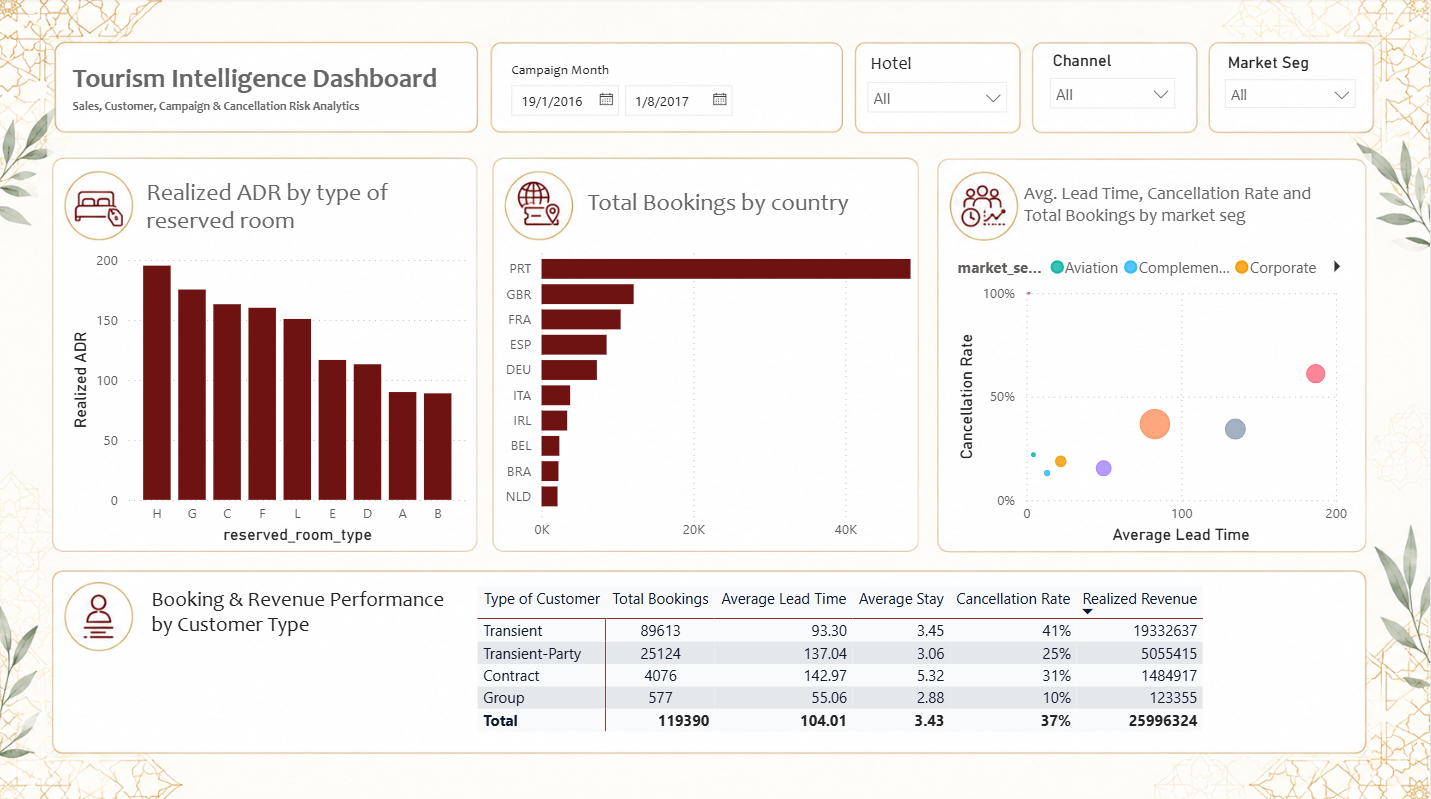

Layout of this report page (visuals, bound fields, positions):
{"tool":"powerbi","page":{"name":"Customer & Booking Analysis","canvas":[1280,720],"ordinal":1},"visuals":[{"type":"pivotTable","fields":{"Rows":["fact_bookings.customer_type"],"Values":["Booking measures.Total Bookings","Booking measures.Average Lead Time","Booking measures.Average Stay","Booking measures.Cancellation Rate","Booking measures.Realized Revenue"]},"box":[424.4,520.9,683.7,143],"z":0},{"type":"clusteredBarChart","fields":{"Category":["fact_bookings.country"],"Y":["Booking measures.Total Bookings"]},"box":[446.5,211.6,394.2,281.4],"z":1000},{"type":"clusteredColumnChart","fields":{"Category":["fact_bookings.reserved_room_type"],"Y":["Booking measures.Average ADR"]},"box":[61.6,220.9,362.8,272.1],"z":2000},{"type":"scatterChart","fields":{"X":["Booking measures.Average Lead Time"],"Size":["Booking measures.Total Bookings"],"Y":["Booking measures.Cancellation Rate"],"Series":["dim_segment.market_segment"]},"box":[853.5,220.9,358.1,272.1],"z":3000},{"type":"slicer","fields":{"Values":["fact_campaign_funnel_synthetic.campaign_month"]},"box":[446.5,52.3,290.7,59.3],"z":4000},{"type":"slicer","fields":{"Values":["dim_hotel.hotel"]},"box":[767.4,44.2,145.3,76.7],"z":5000},{"type":"slicer","fields":{"Values":["dim_channel.distribution_channel"]},"box":[925.6,44.2,145.3,80.2],"z":6000},{"type":"slicer","fields":{"Values":["dim_segment.market_segment"]},"box":[1086,44.2,137.2,76.7],"z":7000},{"type":"textbox","box":[62,52,384,88],"z":8000},{"type":"textbox","box":[912.8,160.5,298.8,55.8],"z":9000},{"type":"textbox","box":[522.1,165.1,273.3,37.2],"z":10000},{"type":"textbox","box":[127.9,155.8,288.4,65.1],"z":11000},{"type":"textbox","box":[132.6,520.9,291.9,83.7],"z":11001}]}

Visuals, with their boxes in screenshot pixels (x1, y1, x2, y2), scaled from the page's 1280x720 canvas onto the 1431x799 screenshot:
pivotTable - fact_bookings.customer_type x Booking measures.Total Bookings: 474 578 1239 737
clusteredBarChart - fact_bookings.country x Booking measures.Total Bookings: 499 235 940 547
clusteredColumnChart - fact_bookings.reserved_room_type x Booking measures.Average ADR: 69 245 474 547
scatterChart - Booking measures.Average Lead Time x Booking measures.Total Bookings: 954 245 1355 547
slicer - fact_campaign_funnel_synthetic.campaign_month: 499 58 824 124
slicer - dim_hotel.hotel: 858 49 1020 134
slicer - dim_channel.distribution_channel: 1035 49 1197 138
slicer - dim_segment.market_segment: 1214 49 1367 134
textbox: 69 58 499 155
textbox: 1020 178 1355 240
textbox: 584 183 889 224
textbox: 143 173 465 245
textbox: 148 578 475 671
